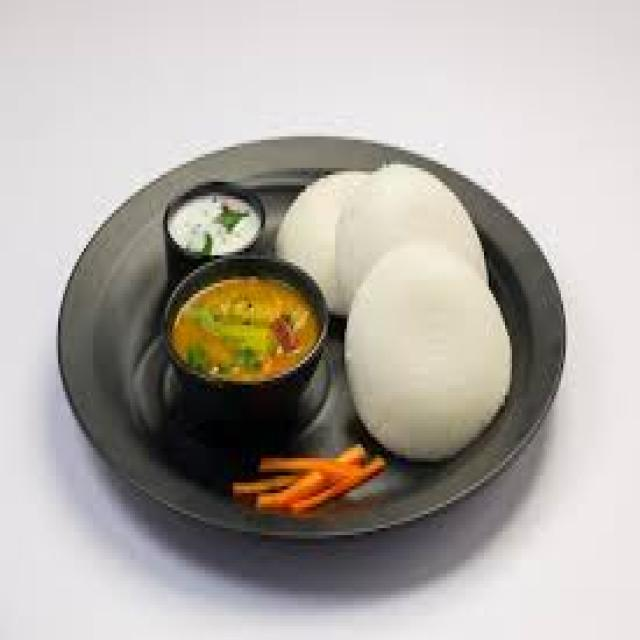IDLI: (344, 245, 510, 455), (340, 168, 484, 311), (277, 175, 368, 308)
